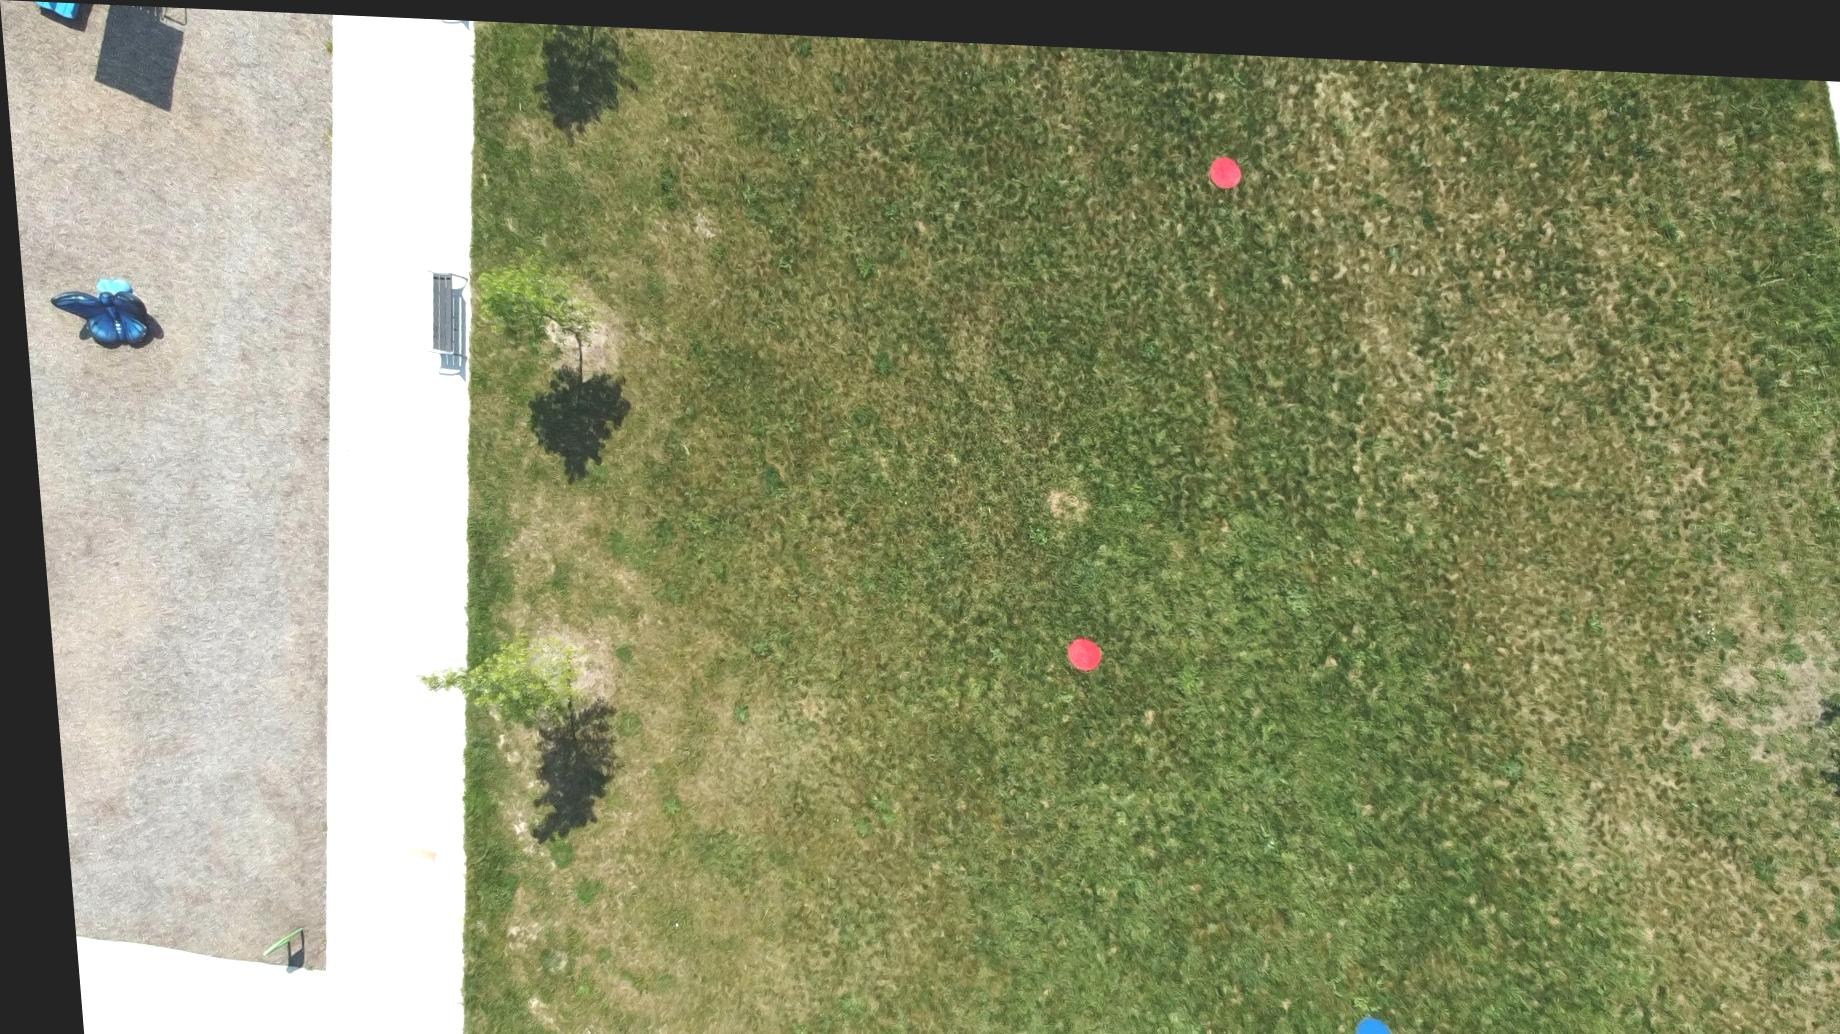Blue: (1337, 1004, 1376, 1034)
Red: (1055, 626, 1093, 664), (1203, 143, 1242, 179)
